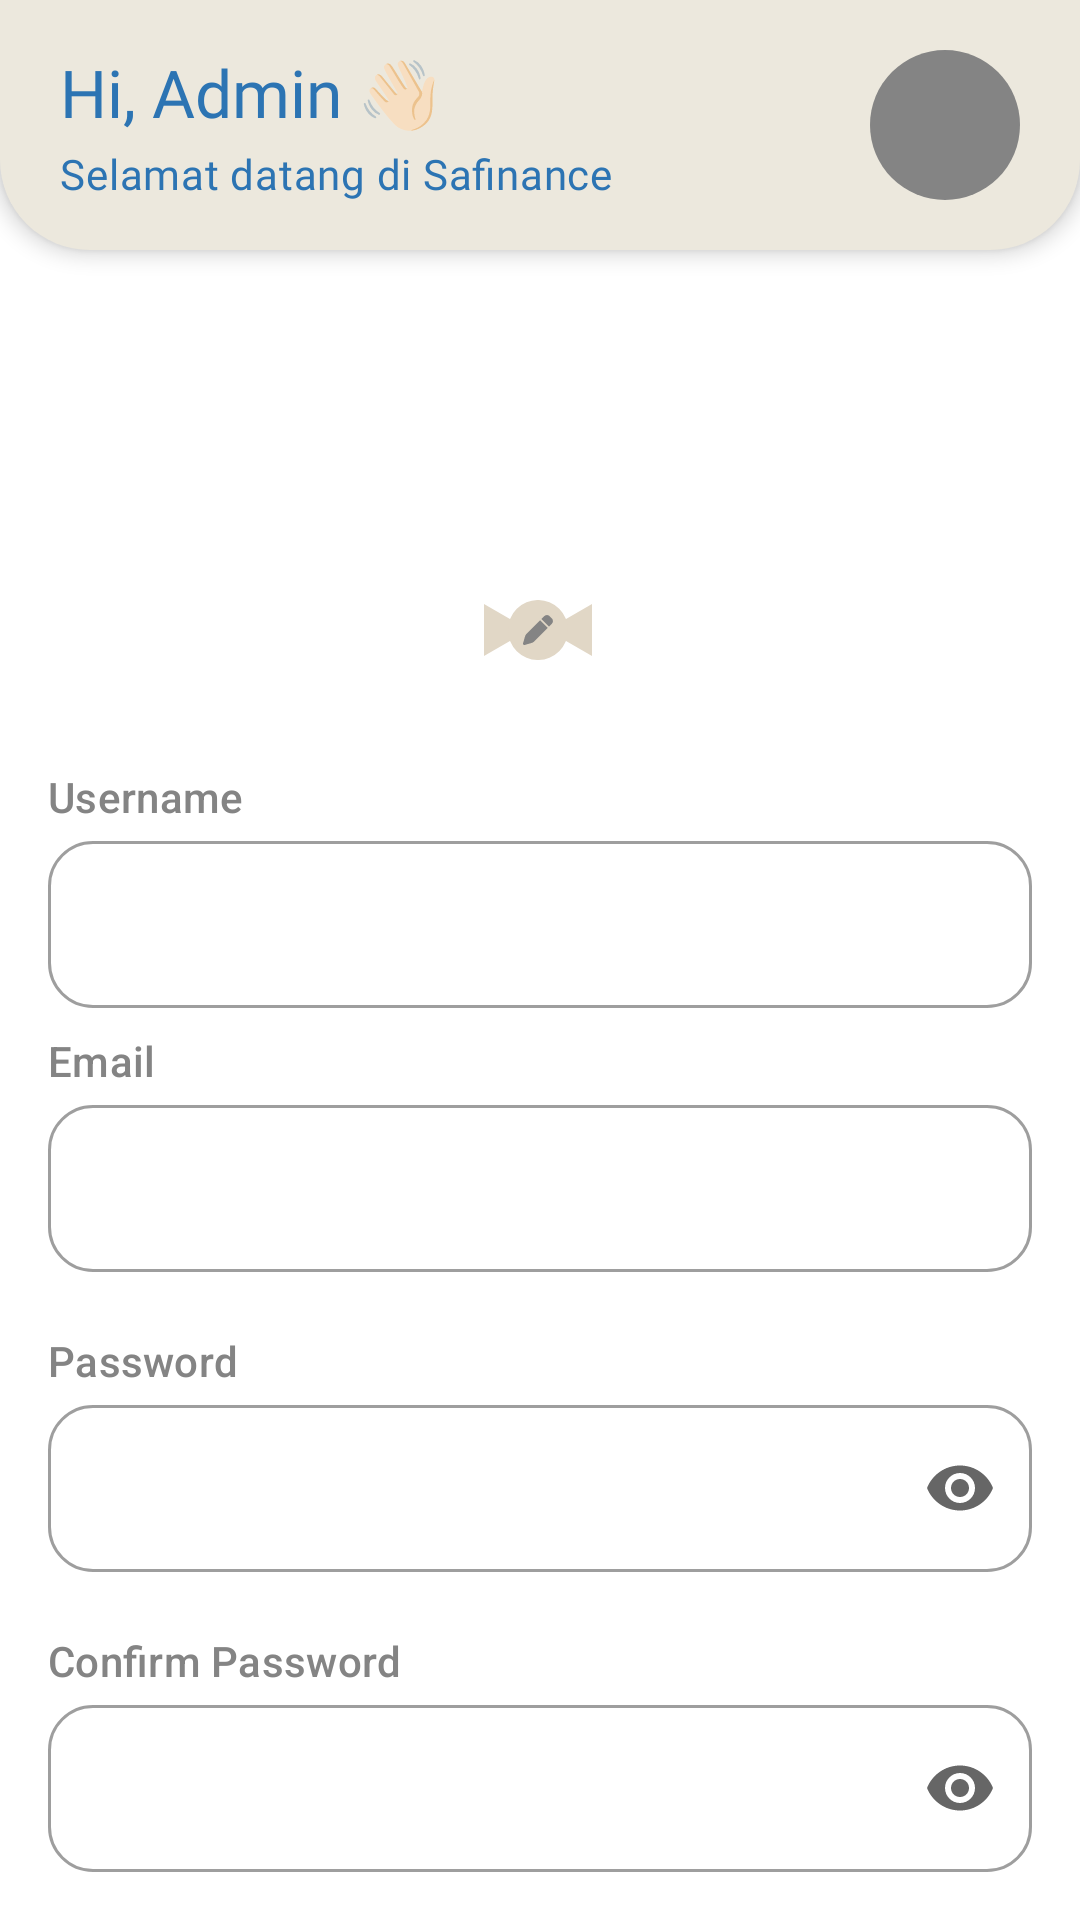

Point at icon controls on the screen. Image size 1080w x 1920h, points as (x=x, y=y).
edit: (x=538, y=630)
